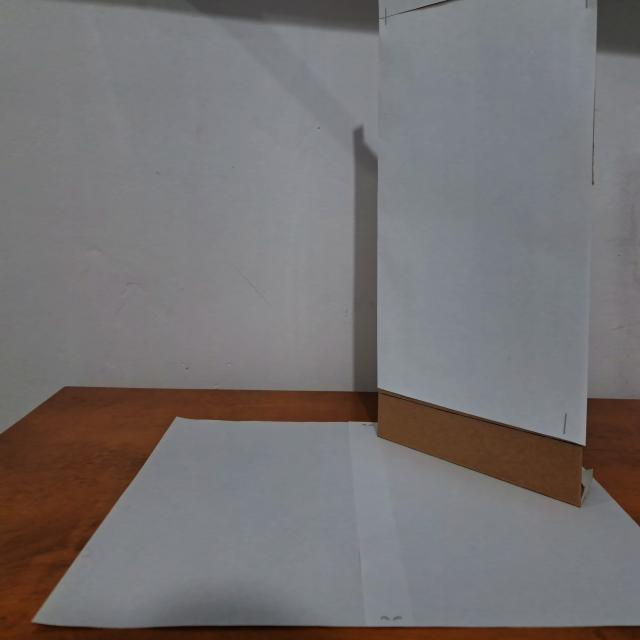wall: (373, 0, 604, 522)
